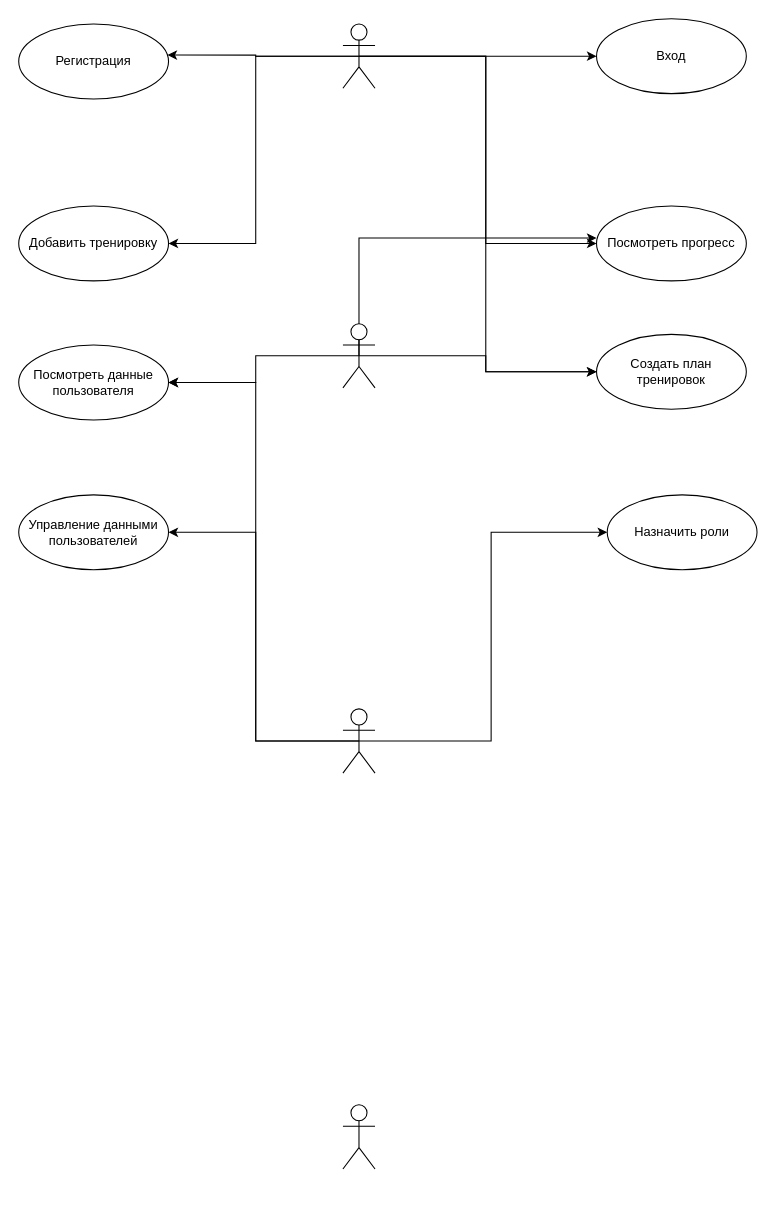
This 776x1210 diagram has some shape labels left out. Each missing label, with the centre of its shape:
Администратор: the point at 358,740
Главный администратор: the point at 358,1136
Обычный пользователь: the point at 358,55
Тренер: the point at 358,355
